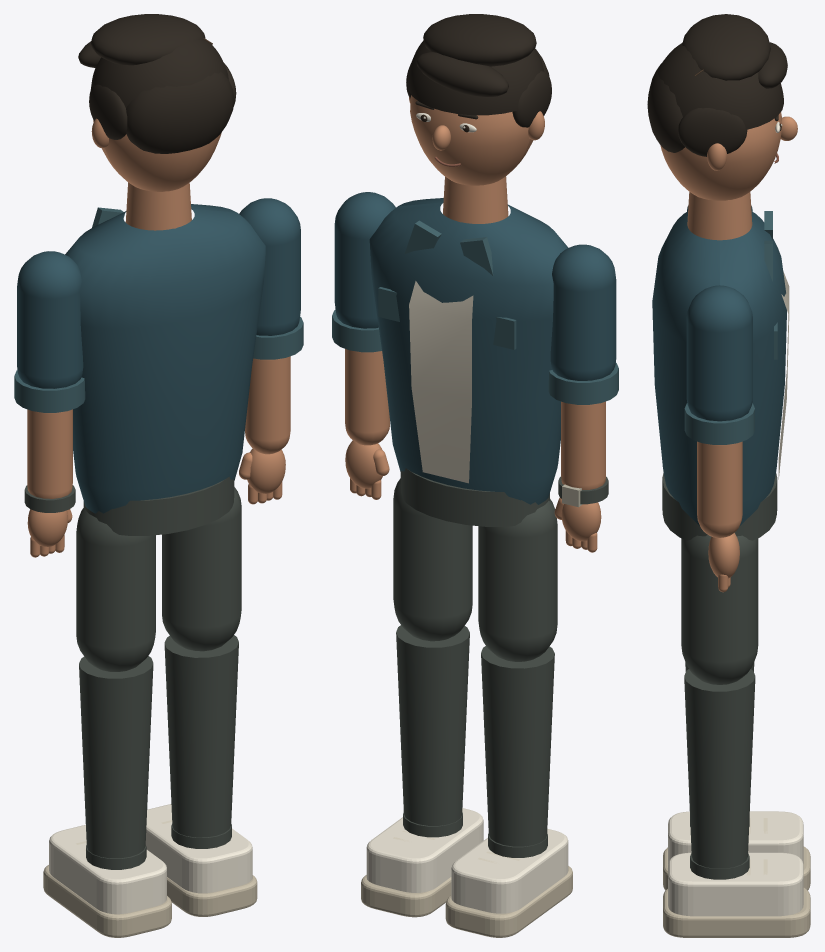
Rendered from gaurav-v3.glb.
3 renders of one model, left to right at view 1: azimuth 30°, elevation 25°; view 2: azimuth 150°, elevation 25°; view 3: azimuth 270°, elevation 25°, orthographic.
Parts seen in each view (by area): view 1: Overshirt, LowerChino (×2), UpperChino (×2), SweptQuiff, TailoredSleeve (×2), SneakerUpper (×2), Forearm (×2), SneakerSole (×2), Waist, Face, RolledCuff (×2), Neck (+3 smaller); view 2: Overshirt, LowerChino (×2), UpperChino (×2), TailoredSleeve (×2), SweptQuiff, SneakerUpper (×2), InnerKnitShirt, Forearm (×2), Face, SneakerSole (×2), Waist, RolledCuff (×2) (+7 smaller); view 3: Overshirt, SweptQuiff, LowerChino, SneakerUpper (×2), UpperChino, TailoredSleeve, Face, Forearm, SneakerSole (×2), Neck, Waist, RolledCuff (+4 smaller).
Part boxes in pixels (x1,y1,x2,y2): Overshirt: (65,204,265,513); LowerChino (×2): (79,635,238,858); UpperChino (×2): (76,487,241,671); SweptQuiff: (78,14,236,153); TailoredSleeve (×2): (17,198,300,388); SneakerUpper (×2): (49,804,252,914); Forearm (×2): (27,356,290,498); SneakerSole (×2): (43,865,257,937); Waist: (83,476,234,535); Face: (93,120,221,191); RolledCuff (×2): (14,317,303,412); Neck: (125,182,191,230); Overshirt: (369,198,568,504); LowerChino (×2): (396,625,554,846); UpperChino (×2): (393,478,557,661); TailoredSleeve (×2): (334,192,616,380); SweptQuiff: (406,14,551,127); SneakerUpper (×2): (366,808,568,913); InnerKnitShirt: (409,281,473,483); Forearm (×2): (345,349,605,489); Face: (410,95,533,185); SneakerSole (×2): (361,866,572,937); Waist: (400,468,549,526); RolledCuff (×2): (332,309,618,404); Overshirt: (652,211,786,526); SweptQuiff: (647,14,787,156); LowerChino: (684,669,755,868); SneakerUpper (×2): (668,811,803,916); UpperChino: (681,535,758,684); TailoredSleeve: (686,285,752,421); Face: (660,112,781,200); Forearm: (697,441,742,537); SneakerSole (×2): (663,846,810,937); Neck: (687,192,752,240); Waist: (662,473,777,540); RolledCuff: (684,403,754,444).
Size of the model in its own units: 0.6578 by 1.99 by 0.338.
